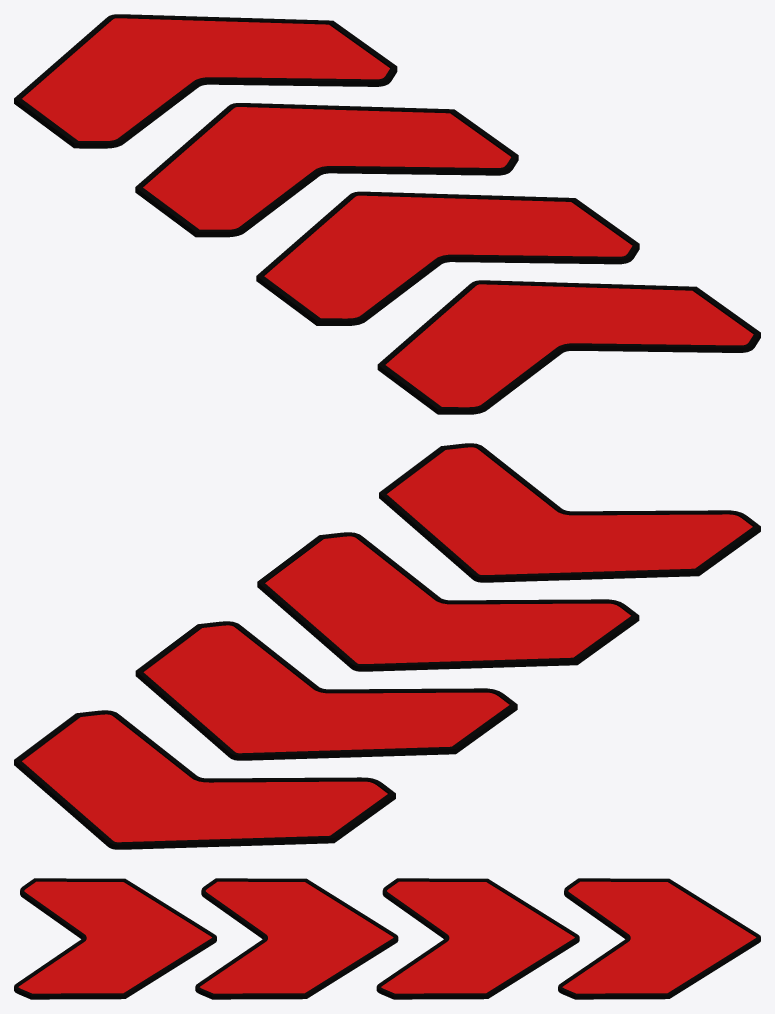
The model's file is arrows2.fbx.
3 renders of one model, top to bottom at view 1: azimuth 30°, elevation 25°; view 2: azimuth 150°, elevation 25°; view 3: azimuth 270°, elevation 25°, orthographic. The views are drawn at different scales.
Visible parts, largest first — view 1: Plane006, Plane005, Plane008, Plane007; view 2: Plane008, Plane007, Plane006, Plane005; view 3: Plane006, Plane008, Plane007, Plane005.
Boxes of the visible parts, x1,y1,x2,y2 form: Plane006: (135, 103, 518, 237); Plane005: (14, 14, 397, 148); Plane008: (377, 280, 760, 414); Plane007: (256, 191, 639, 325); Plane008: (379, 443, 760, 582); Plane007: (257, 532, 639, 671); Plane006: (135, 621, 517, 760); Plane005: (14, 710, 395, 849); Plane006: (376, 878, 579, 999); Plane008: (14, 878, 216, 999); Plane007: (195, 878, 398, 999); Plane005: (558, 878, 760, 999).
Size of the model in its own units: 0.5806 by 0.00907 by 1.56.
